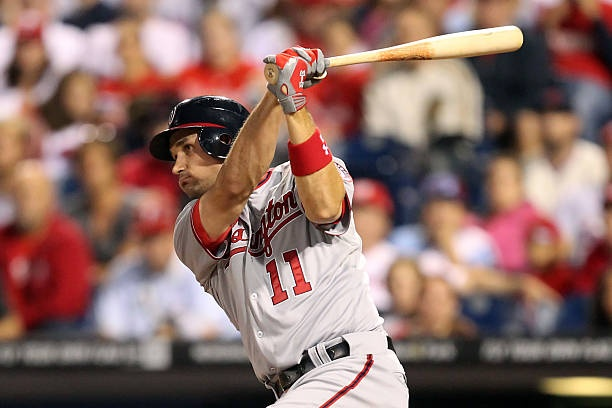bita: (291, 22, 528, 79)
